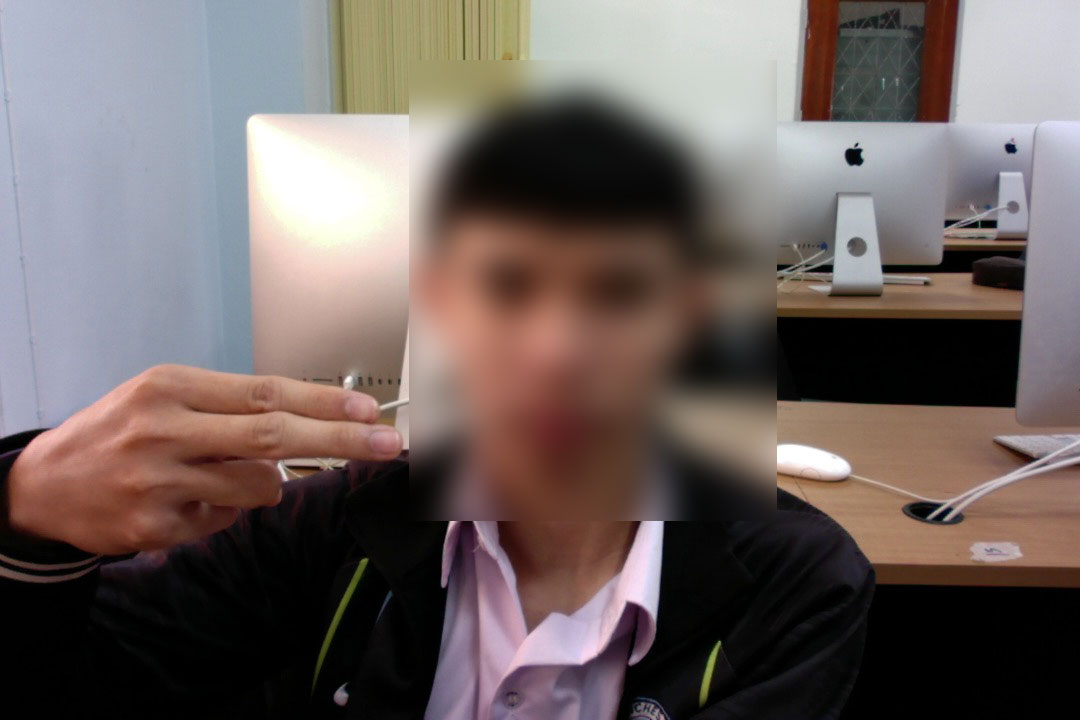hor: (12, 348, 412, 563)
